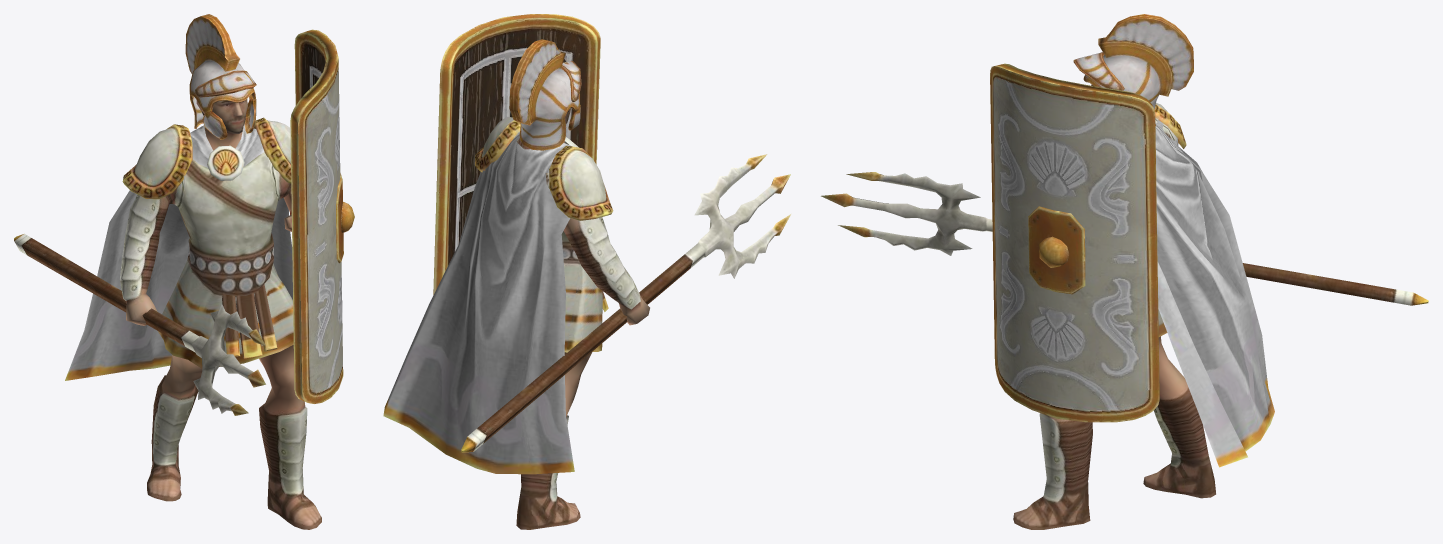
File: 240-destroyerhero.glb
3 renders of one model, left to right at view 1: azimuth 30°, elevation 25°; view 2: azimuth 150°, elevation 25°; view 3: azimuth 270°, elevation 25°, orthographic. The views are drawn at different scales.
Size of the model in its own units: 1.17 by 2.21 by 2.5.
4 materials, 4 textured.
